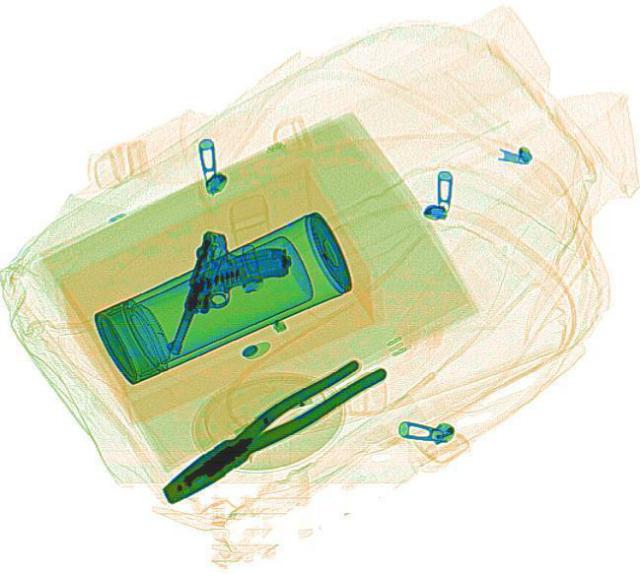Gun: (161, 224, 295, 376)
Pliers: (149, 343, 389, 510)
